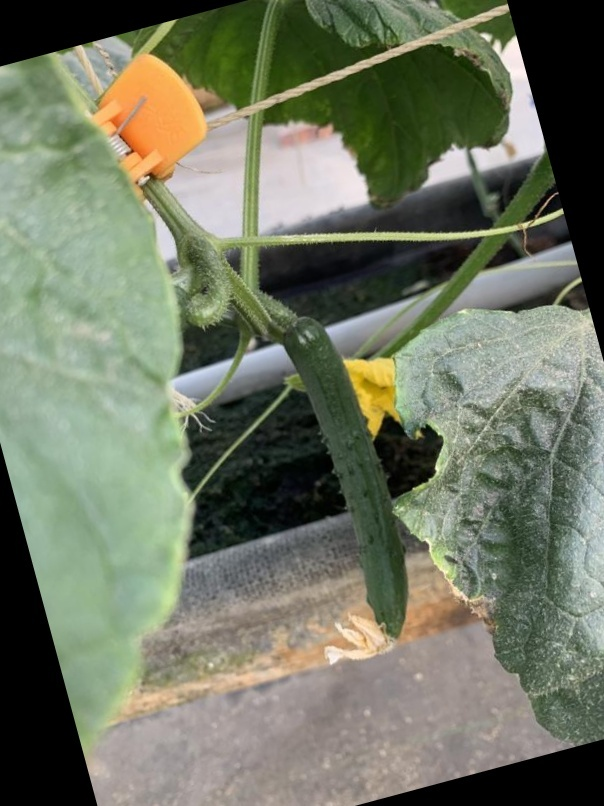mature: (285, 320, 417, 670)
